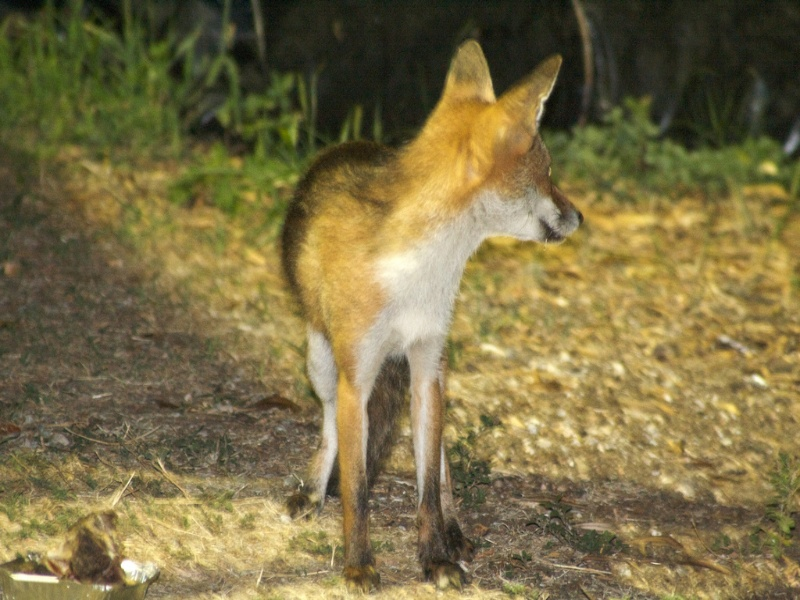fox: (279, 37, 597, 600)
